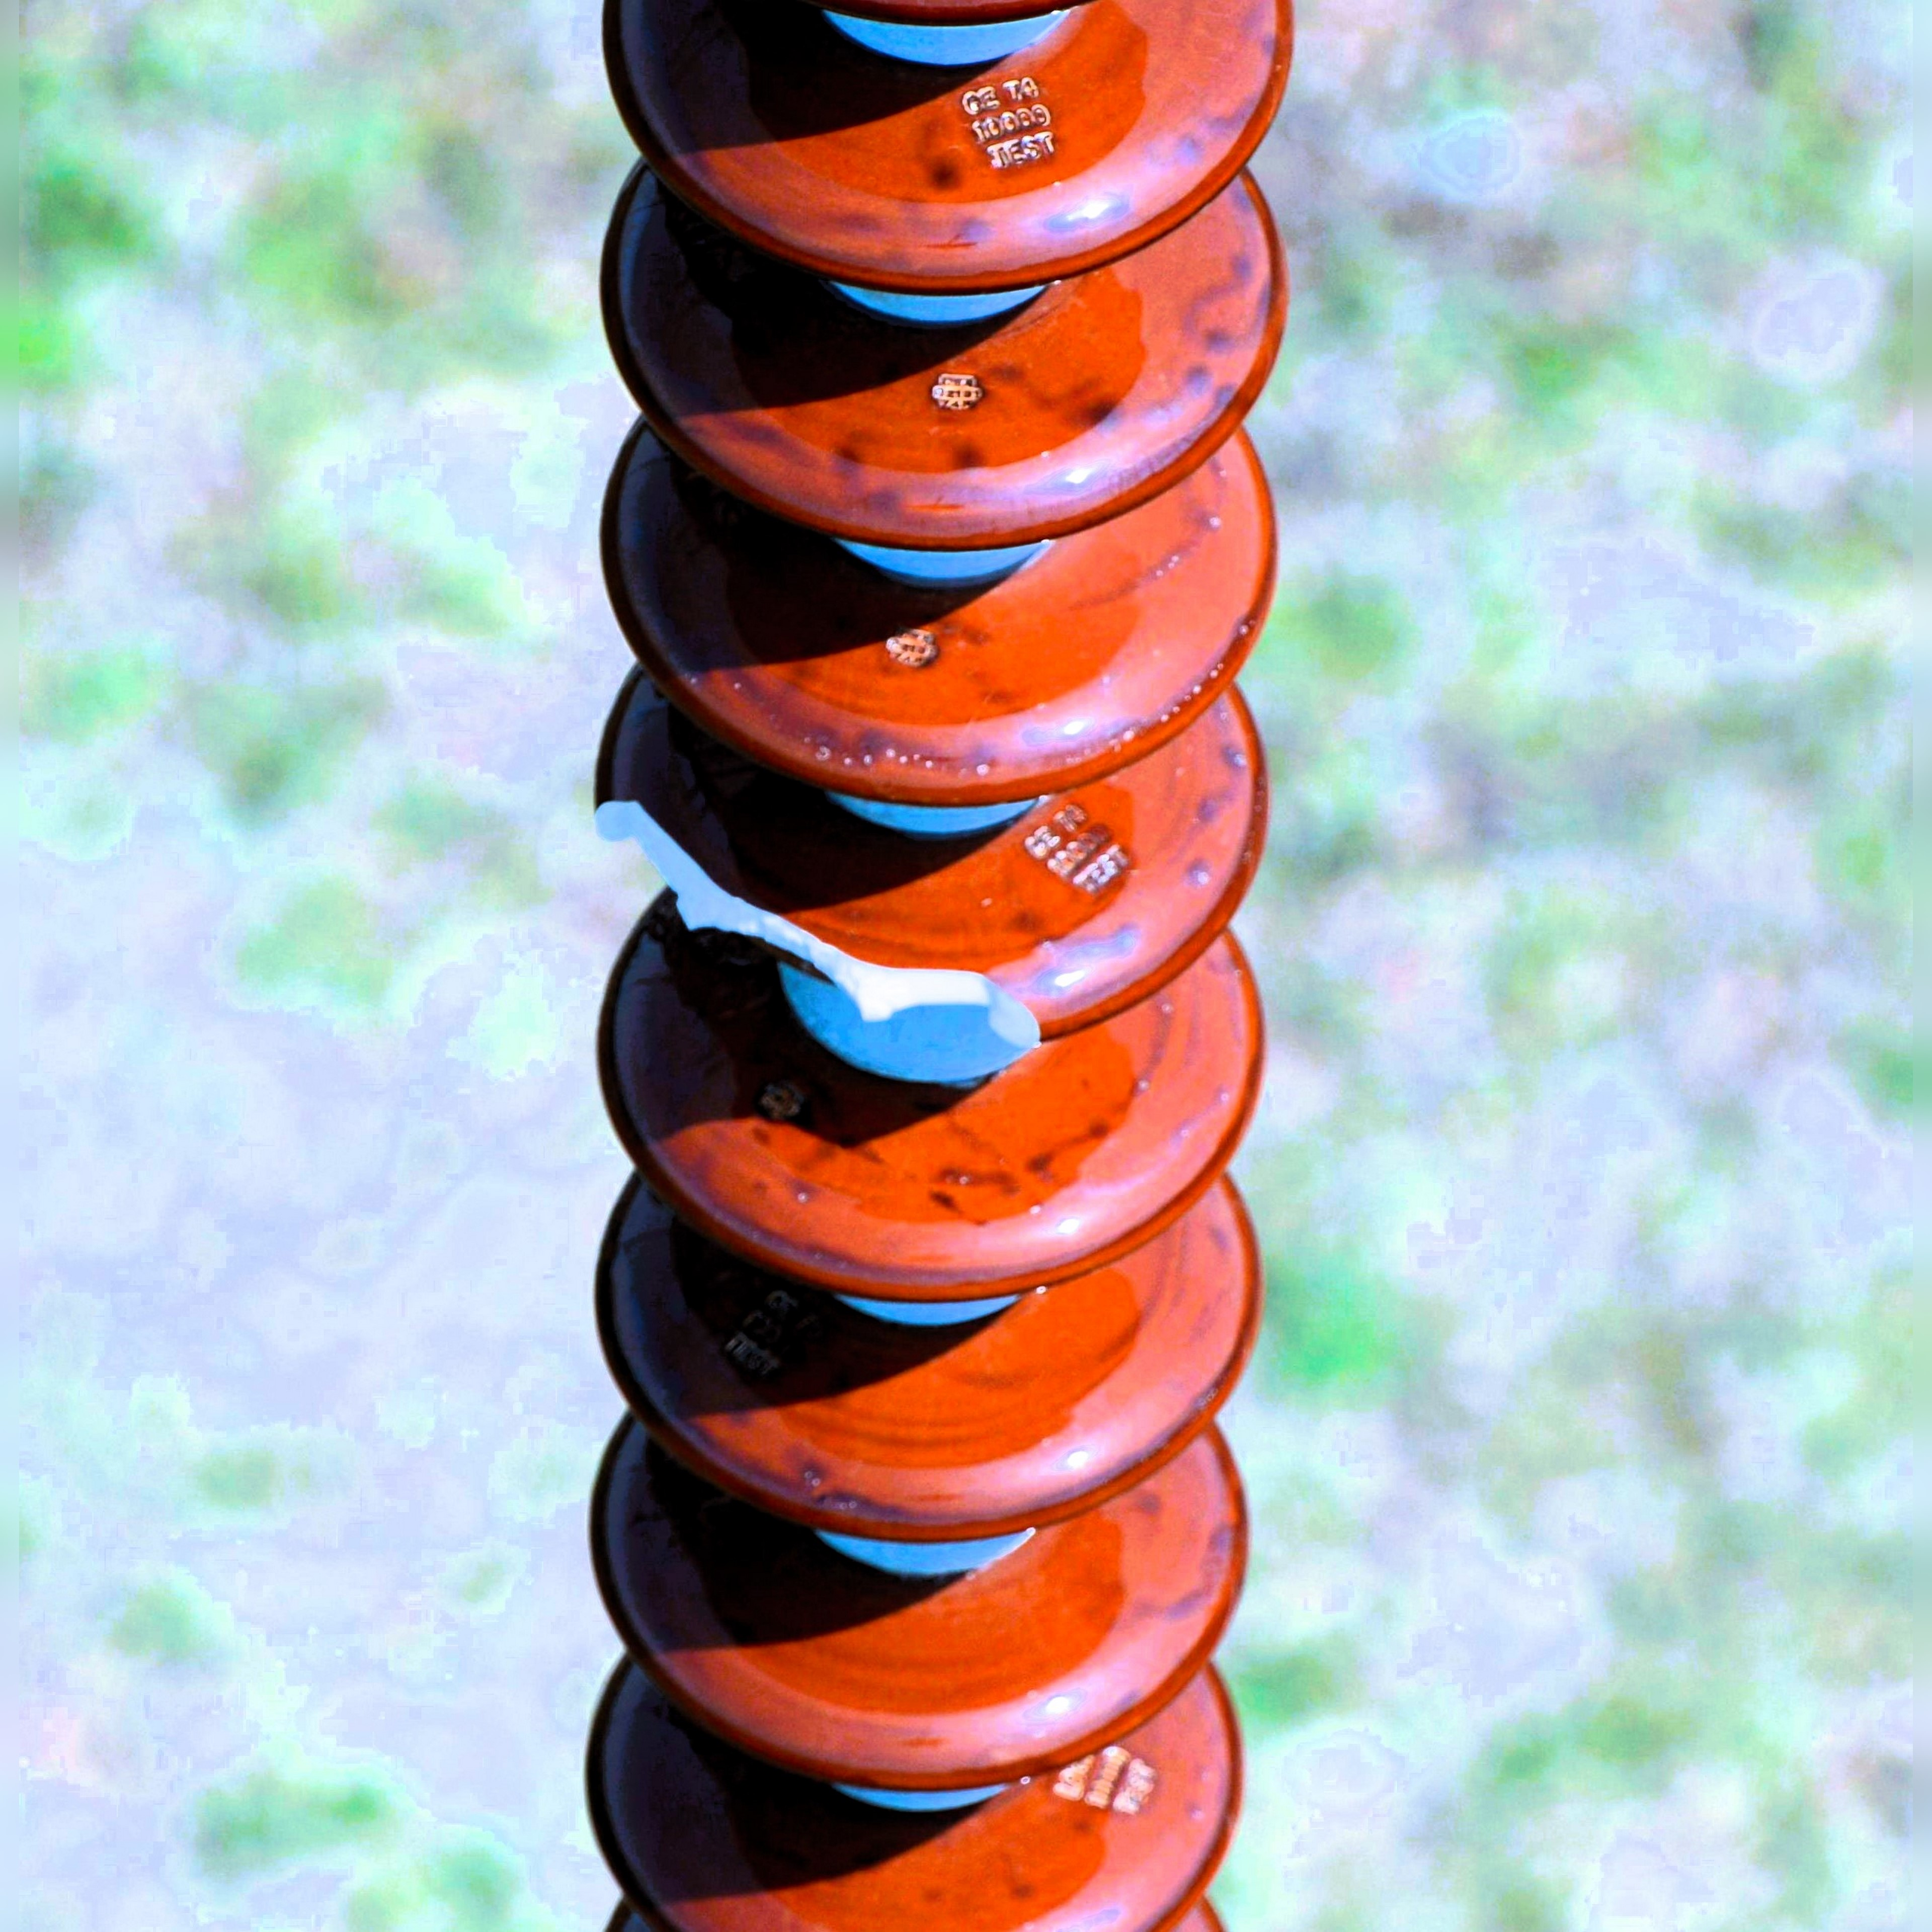insulator breakage: (547, 663, 1288, 1070)
